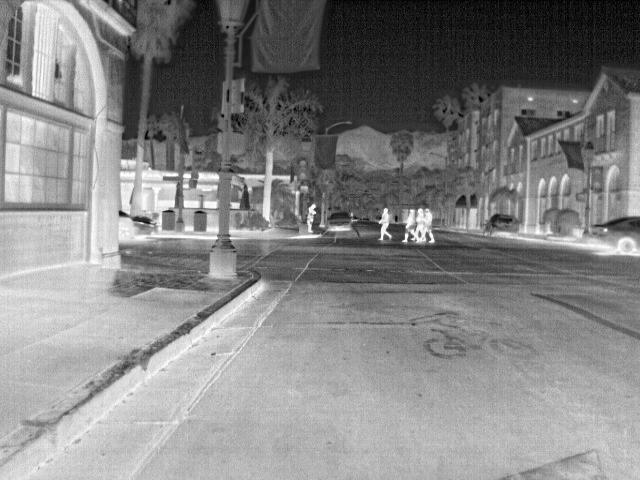car: (587, 213, 640, 258), (485, 214, 523, 239), (325, 211, 353, 231)
person: (377, 209, 394, 243), (422, 207, 438, 243), (408, 207, 423, 243), (397, 208, 411, 244), (306, 204, 320, 232)
